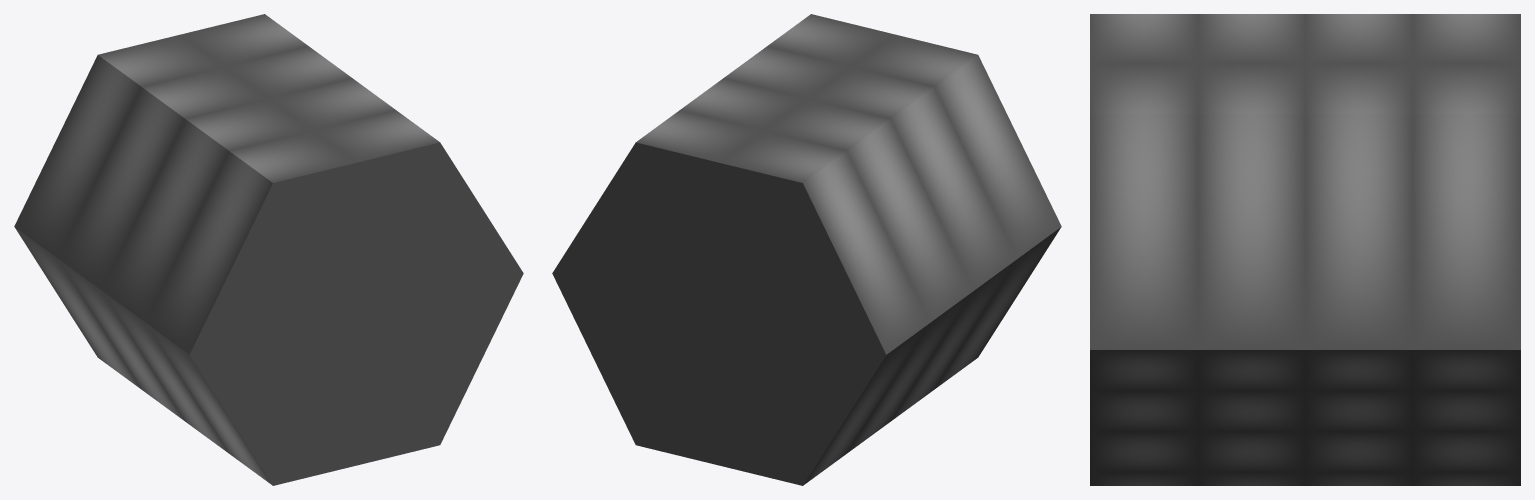
The model's file is hexprism-mid-bright.glb.
The picture shows the model from 3 angles, left to right: view 1: azimuth 30°, elevation 25°; view 2: azimuth 150°, elevation 25°; view 3: azimuth 270°, elevation 25°; orthographic projection. The views are drawn at different scales.
Parts seen in each view (by area): view 1: world; view 2: world; view 3: world.
Part boxes in pixels (x1,y1,x2,y2): world: [14, 14, 523, 485]; world: [552, 14, 1061, 485]; world: [1090, 14, 1520, 485].
Size of the model in its own units: 1.1 by 0.9526 by 1.
Materials: 1 (1 with a texture image).
